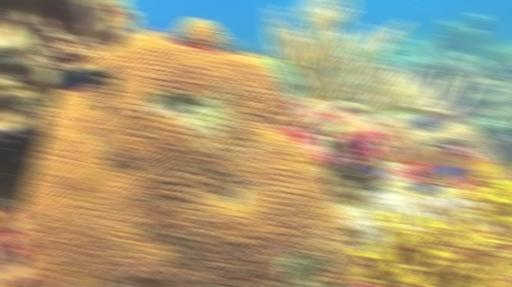Fish: (57, 69, 108, 91), (411, 115, 436, 131), (412, 183, 439, 194), (439, 166, 462, 178), (362, 165, 381, 177), (334, 104, 351, 114), (397, 142, 410, 154)
